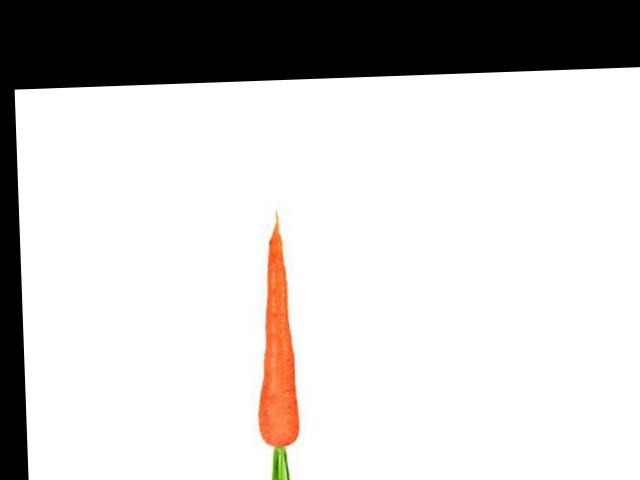carrot: (248, 211, 309, 450)
